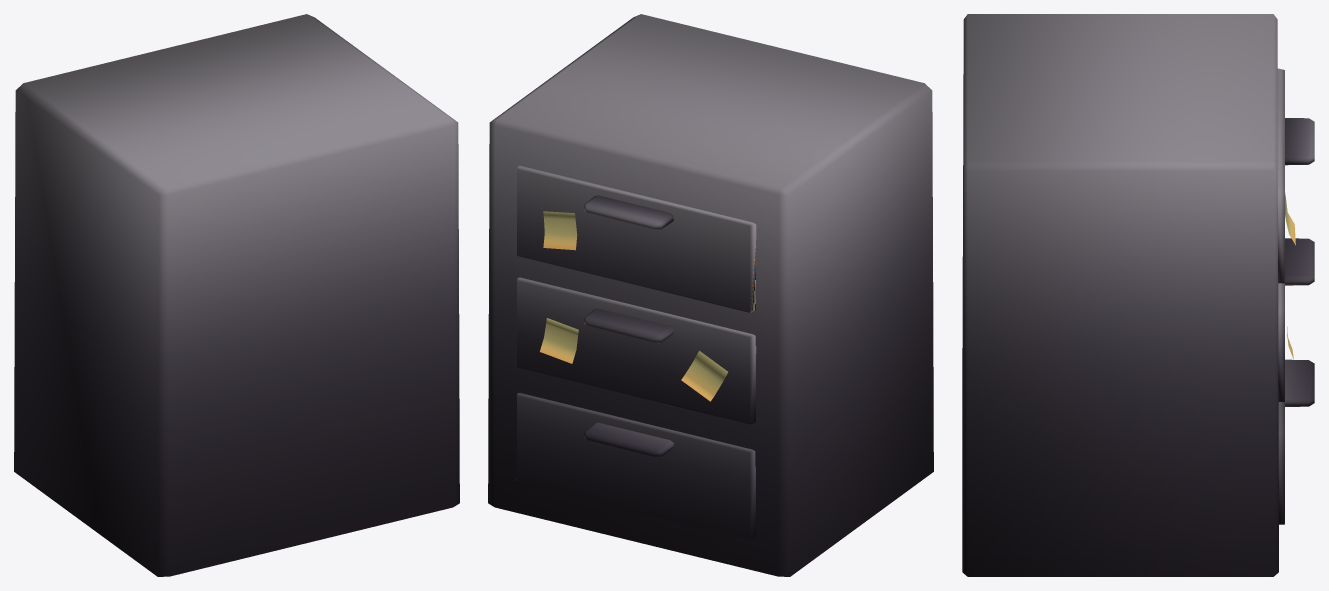
File: mesh_cabinet_w_postits_LOD1.fbx
The picture shows the model from 3 angles, left to right: view 1: azimuth 30°, elevation 25°; view 2: azimuth 150°, elevation 25°; view 3: azimuth 270°, elevation 25°; orthographic projection. The views are drawn at different scales.
Parts seen in each view (by area): view 1: cabinet_w_postits_LOD1; view 2: cabinet_w_postits_LOD1; view 3: cabinet_w_postits_LOD1.
Part boxes in pixels (left/top/right/bottom): cabinet_w_postits_LOD1: left=14, top=14, right=459, bottom=576; cabinet_w_postits_LOD1: left=488, top=14, right=933, bottom=576; cabinet_w_postits_LOD1: left=962, top=14, right=1314, bottom=576.
Size of the model in its own units: 112 by 137 by 107.
